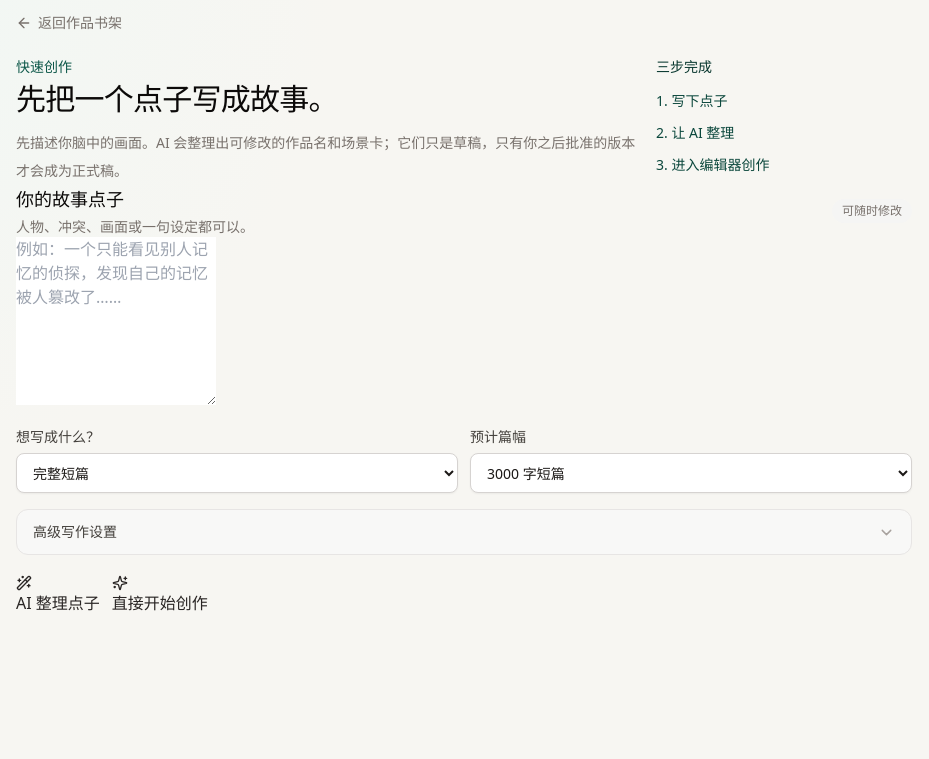
QuickCreationPage › keeps advanced writing settings folded until the user needs them
Click the heading "高级写作设置" at (75, 532), box [33,522,895,541]
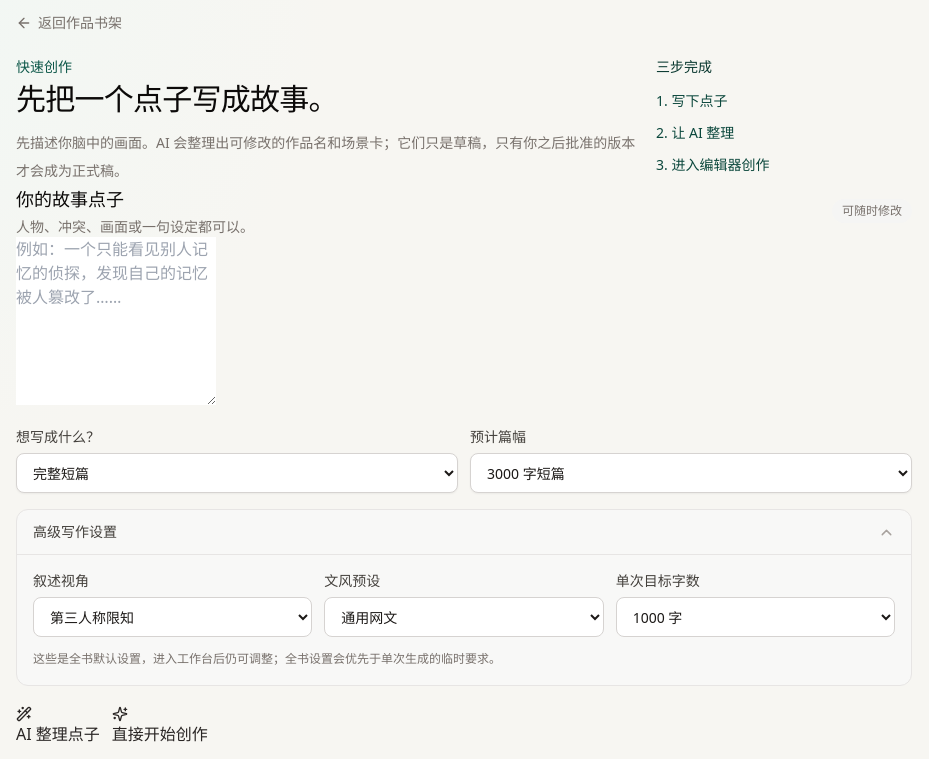
Result: the dropdown labelled "叙述视角" shows "第三人称限知" at [33,597,312,637]
Result: the dropdown labelled "单次目标字数" shows "1000 字" at [616,597,895,637]
